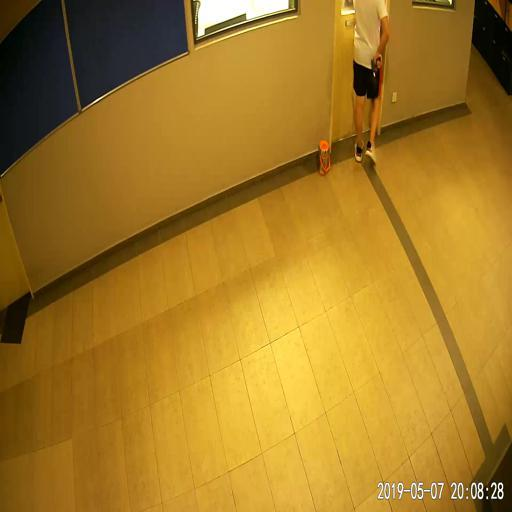Handgun: (369, 54, 382, 82)
